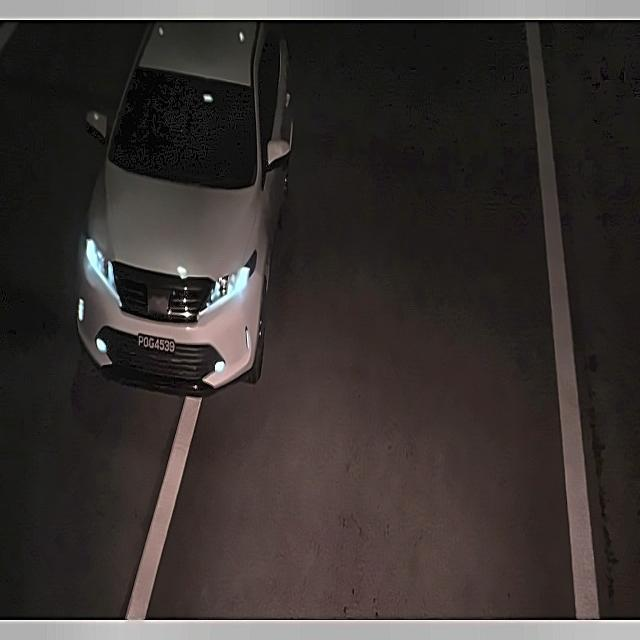car: (132, 331, 178, 362)
